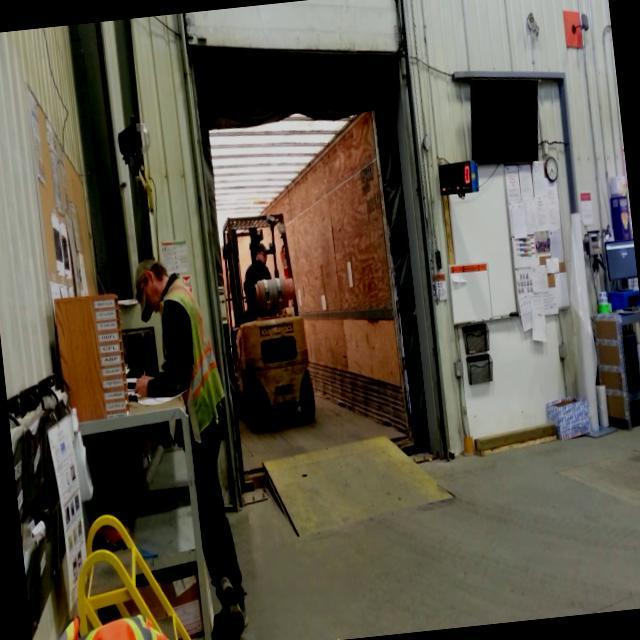driver: (234, 240, 276, 314)
forklift: (212, 205, 322, 440)
person: (132, 249, 259, 640)
